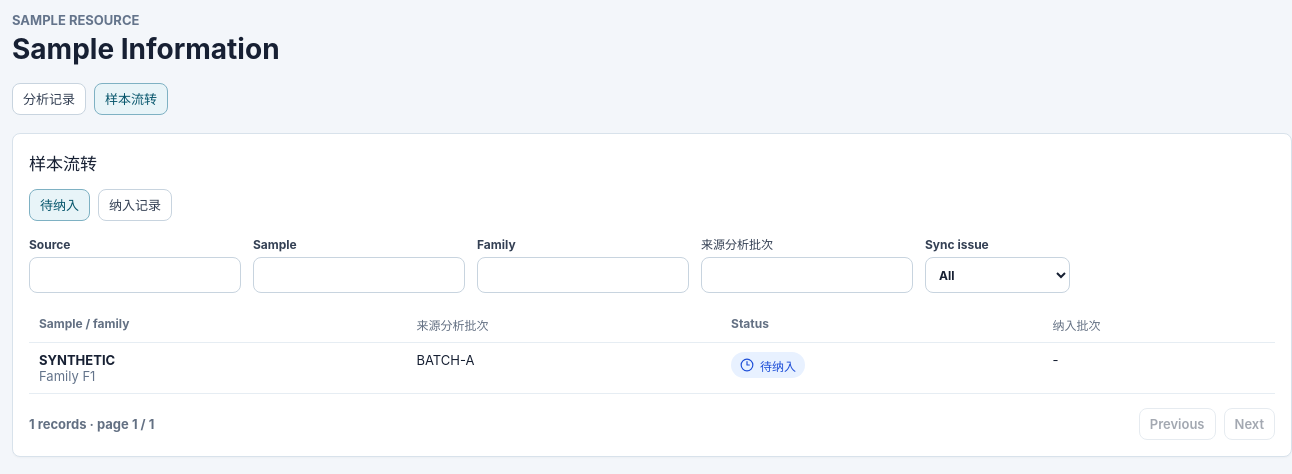
Test: keeps removed records accessible in history without inventing a receiving batch
Expected: the text "SYNTHETIC" is shown, [39,352,115,368]
What coordinates should you click on to do the following:
click the tab "纳入记录"
I would click on:
 (135, 205)
Its box is [98,189,172,221].
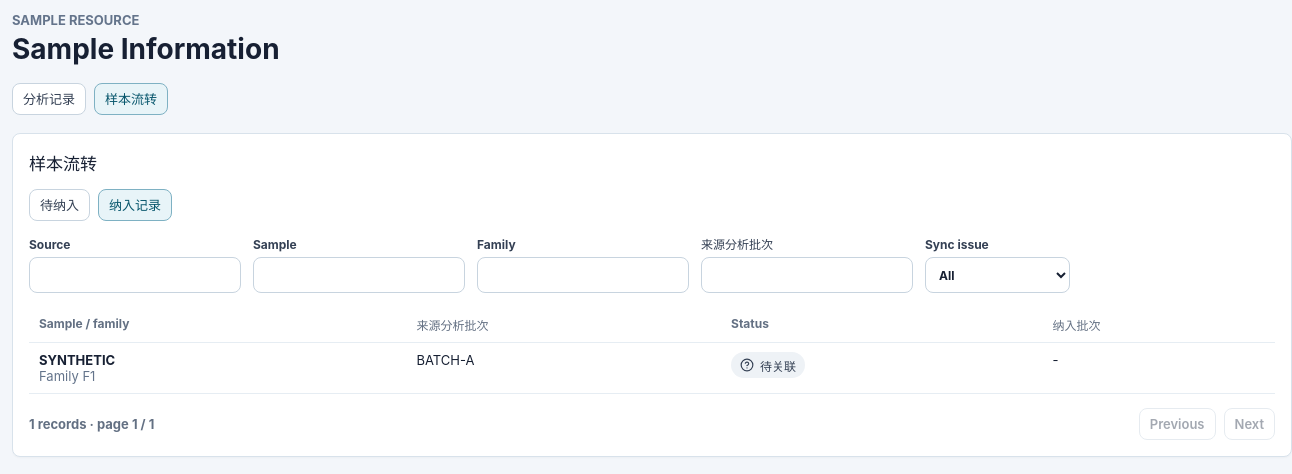
Expected: the text "待关联" is shown, [760,357,796,374]
